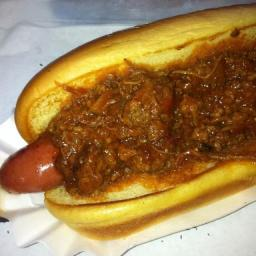hotdog: (0, 145, 62, 198)
